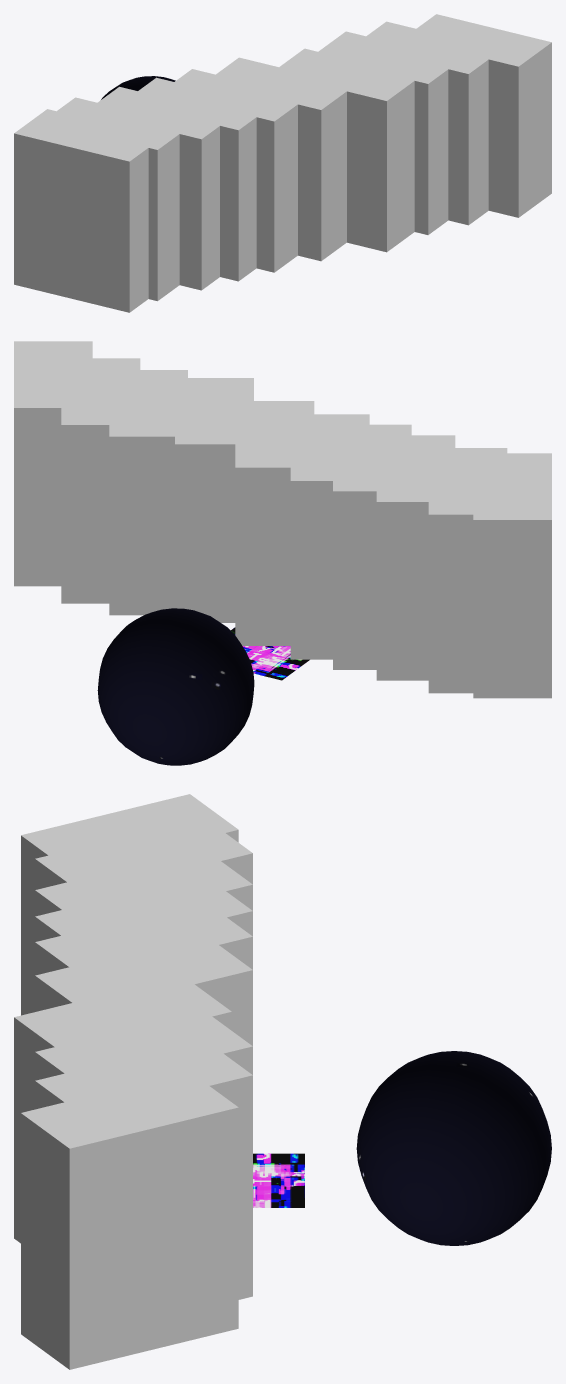
File: MOUNTAIN_Level.glb
3 renders of one model, top to bottom at view 1: azimuth 30°, elevation 25°; view 2: azimuth 150°, elevation 25°; view 3: azimuth 270°, elevation 25°, orthographic. The views are drawn at different scales.
Parts seen in each view (by area): view 1: Cube (9), Cube (1), Cube (4), Cube, Cube (5), Cube (7), Cube (2), Cube (6), Cube (3), Cube (8), Skybox; view 2: Skybox, Cube (9), Cube (2), Cube (1), Cube, Cube (3), Cube (7), Cube (4), Cube (6), Cube (8), Cube (5), GlitchEffect; view 3: Cube (4), Skybox, Cube (3), Cube, Cube (1), Cube (9), Cube (8), Cube (2), Cube (6), Cube (5), Cube (7), GlitchEffect.
Part boxes in pixels (x1,y1,x2,y2): Cube (9): (14,109,160,312); Cube (1): (279,48,418,252); Cube (4): (403,14,551,217); Cube: (206,57,353,261); Cube (5): (159,69,299,272); Cube (7): (86,86,232,290); Cube (2): (318,31,460,234); Cube (6): (123,77,270,281); Cube (3): (354,21,499,225); Cube (8): (44,97,188,301); Skybox: (101,76,175,99); Skybox: (97,608,254,765); Cube (9): (473,453,551,698); Cube (2): (109,370,187,615); Cube (1): (175,378,253,622); Cube: (235,401,314,645); Cube (3): (61,358,140,603); Cube (7): (376,435,455,680); Cube (4): (14,341,92,586); Cube (6): (333,424,411,669); Cube (8): (428,448,507,693); Cube (5): (290,414,369,659); GlitchEffect: (231,627,309,680); Cube (4): (21,1081,238,1369); Skybox: (356,1051,551,1245); Cube (3): (35,1047,252,1299); Cube: (35,942,252,1045); Cube (1): (14,976,231,1243); Cube (9): (21,794,238,1015); Cube (8): (35,817,252,894); Cube (2): (35,1012,252,1085); Cube (6): (35,875,252,952); Cube (5): (35,901,252,976); Cube (7): (35,849,252,916); GlitchEffect: (253,1153,304,1207).
Size of the model in its own units: 85.96 by 31.67 by 55.1.
4 materials, 3 textured.
